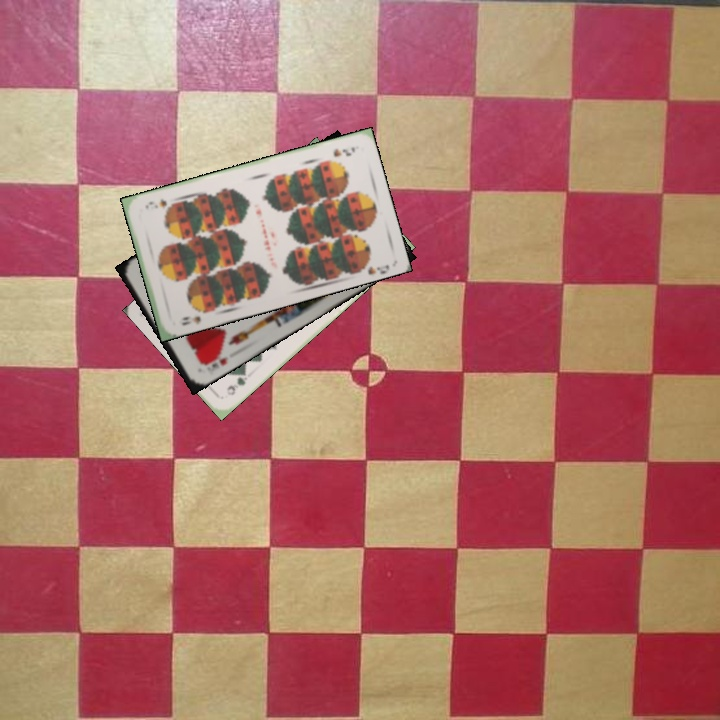G9: (222, 367, 250, 398)
HK: (197, 349, 231, 370)
S9: (178, 304, 210, 328), (329, 143, 358, 159)
